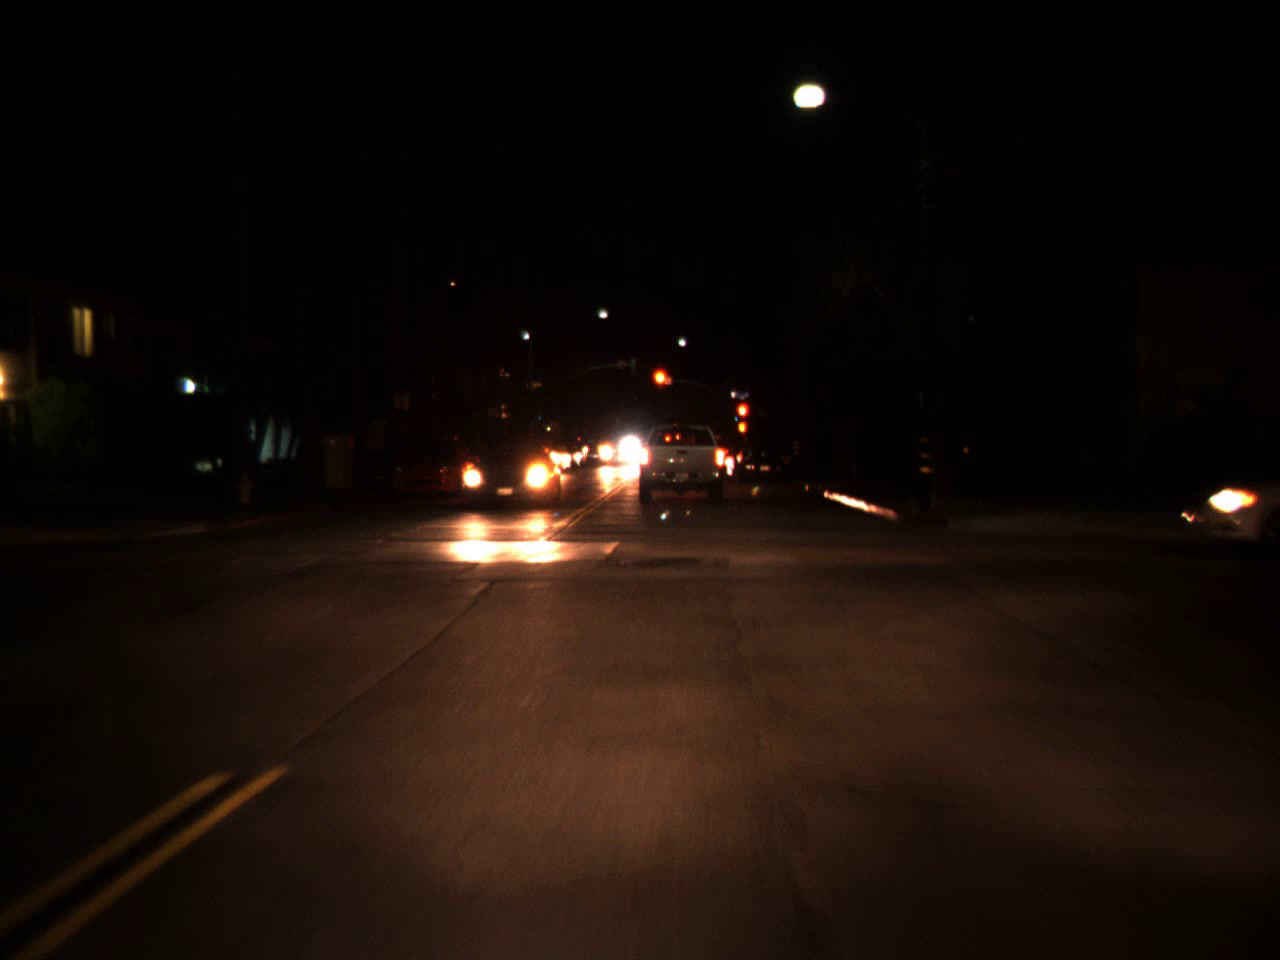stop: (650, 366, 674, 403), (735, 401, 750, 433)
